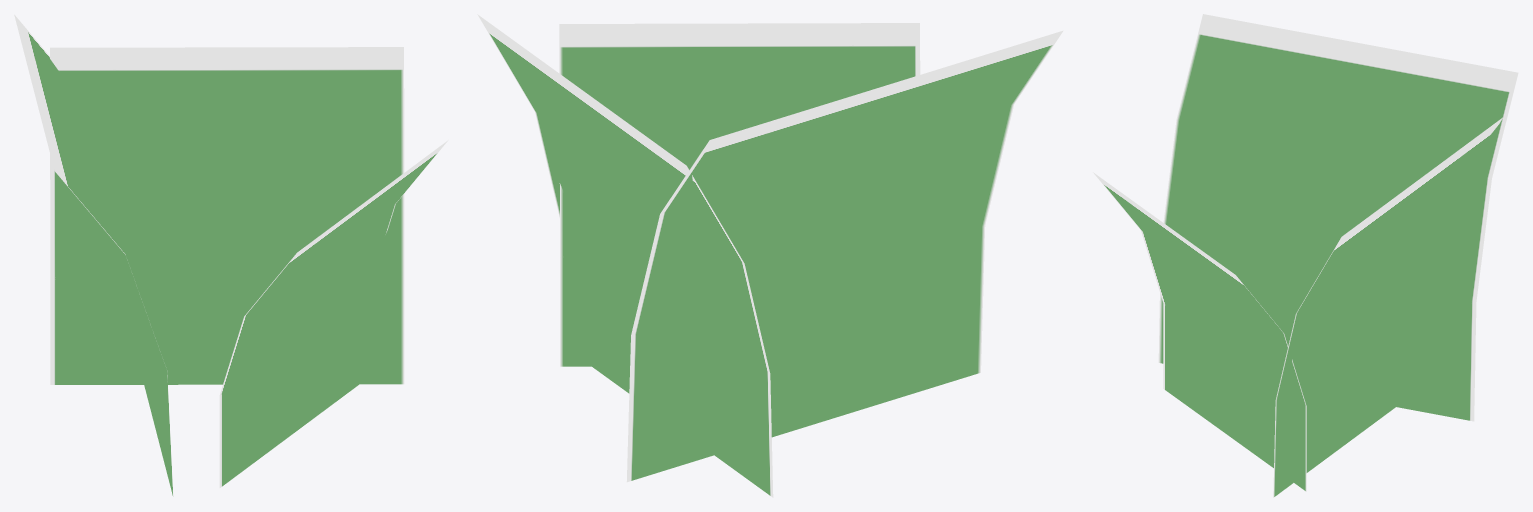
The model's file is SM_ENV_grass_ancient_01.fbx.
3 views of the same model, side by side, from view 1: azimuth 30°, elevation 25°; view 2: azimuth 150°, elevation 25°; view 3: azimuth 270°, elevation 25° (orthographic). The views are drawn at different scales.
Parts seen in each view (by area): view 1: SM_ENV_grass_ancient_01_LOD0; view 2: SM_ENV_grass_ancient_01_LOD0; view 3: SM_ENV_grass_ancient_01_LOD0.
Part boxes in pixels (box(x1,y1,x2,y2)): SM_ENV_grass_ancient_01_LOD0: box(14, 14, 448, 496); SM_ENV_grass_ancient_01_LOD0: box(477, 14, 1063, 497); SM_ENV_grass_ancient_01_LOD0: box(1093, 14, 1518, 497).
Size of the model in its own units: 38.04 by 28.81 by 35.87.
